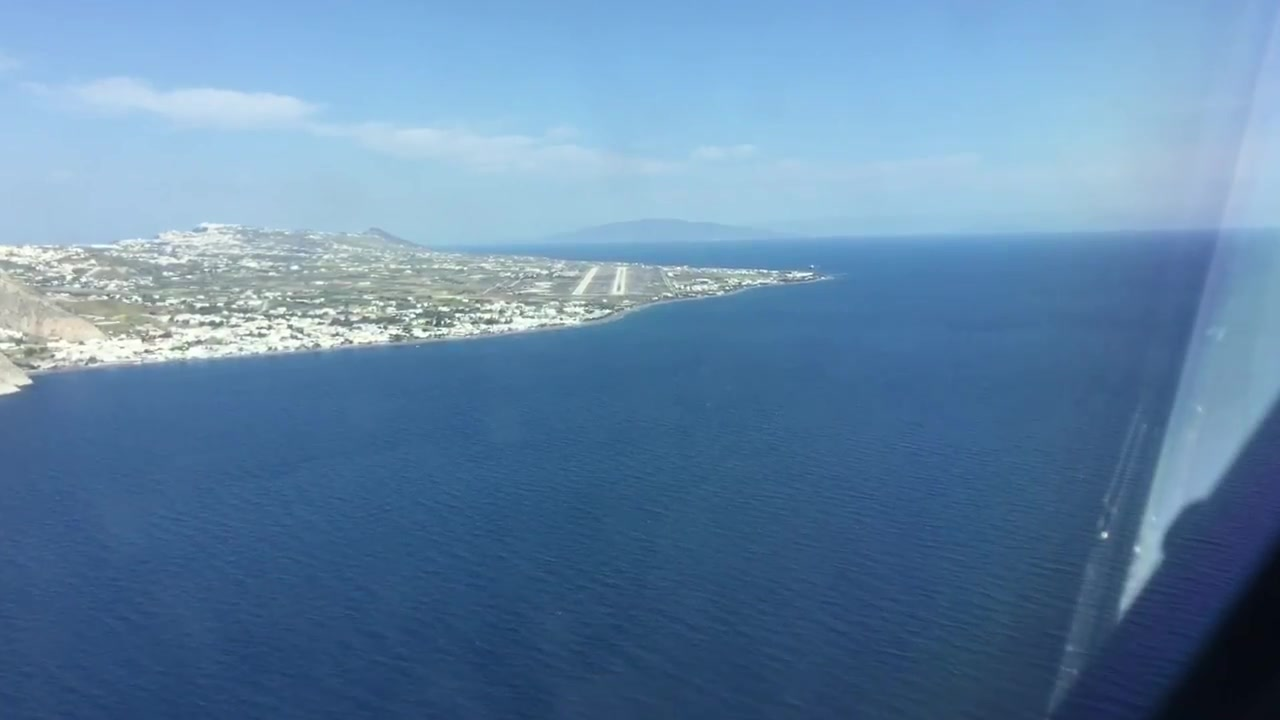runway: (571, 265, 598, 296), (610, 266, 628, 295)
